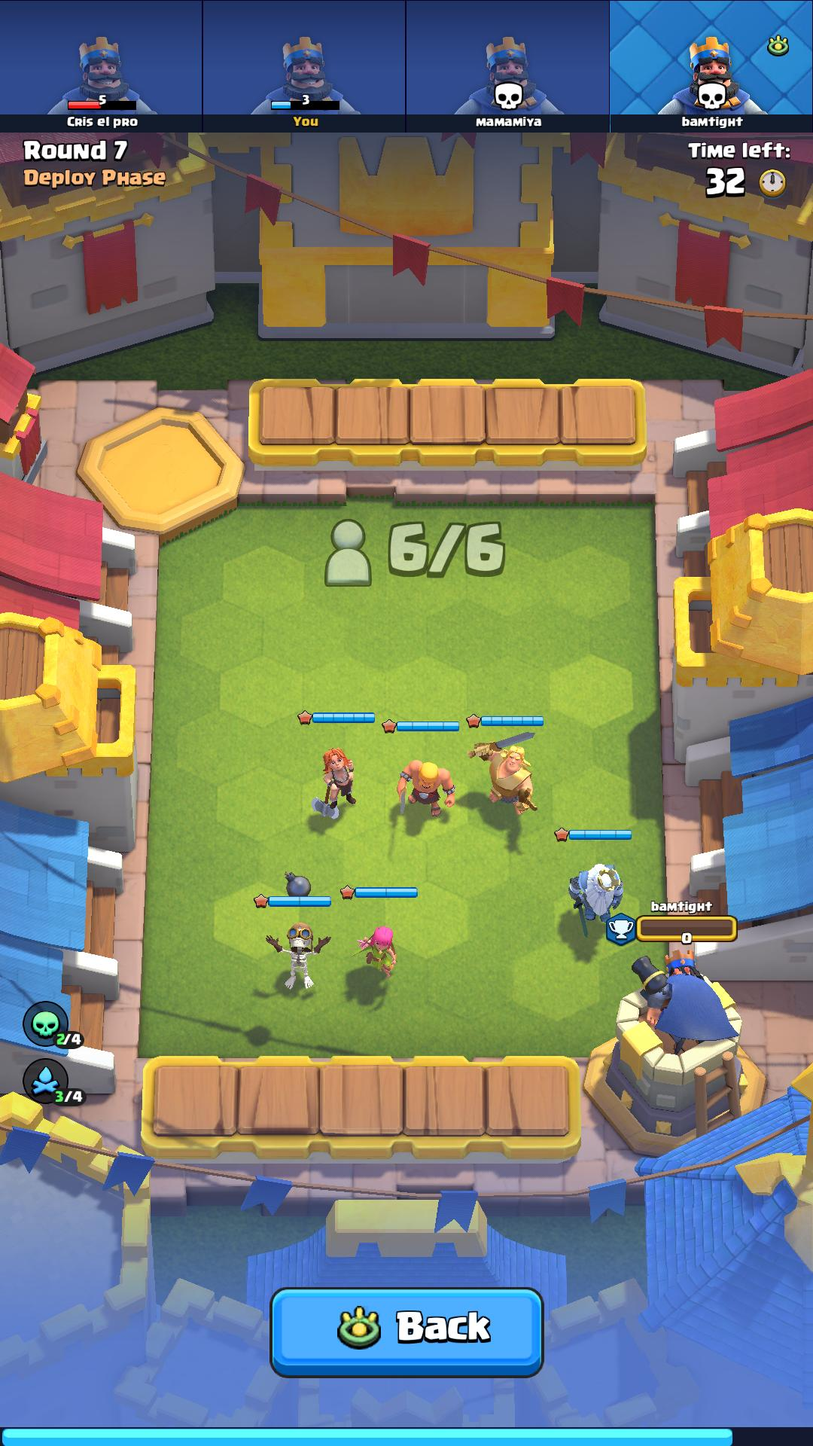archer: (347, 923, 404, 981)
barbarian: (386, 750, 460, 825)
bomber: (261, 917, 333, 992)
ghost: (557, 857, 626, 930)
golden: (464, 730, 547, 814)
valkyrie: (309, 744, 365, 826)
